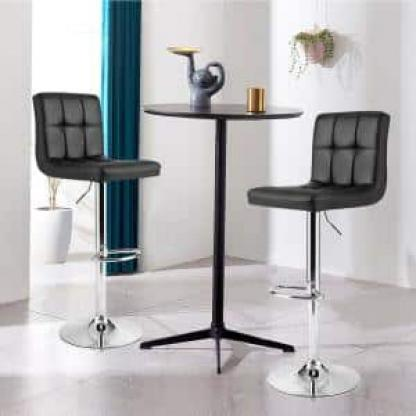chair: (241, 99, 400, 399), (27, 82, 167, 359)
table: (135, 92, 304, 361)
